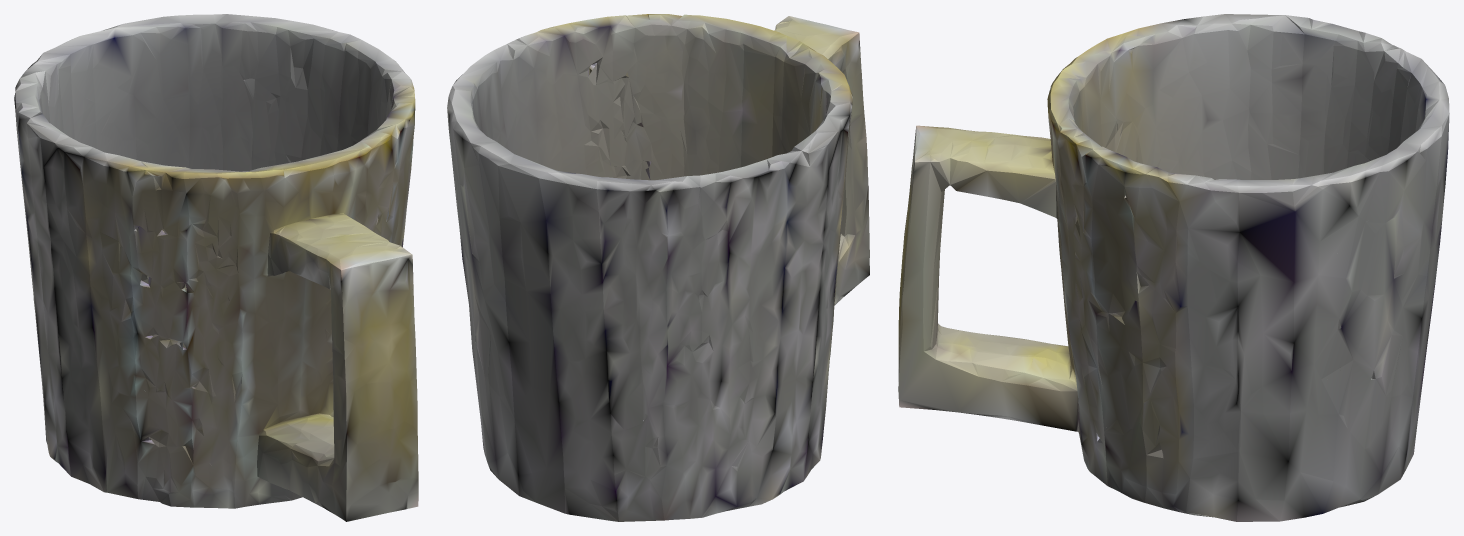
File: cup.glb
3 renders of one model, left to right at view 1: azimuth 30°, elevation 25°; view 2: azimuth 150°, elevation 25°; view 3: azimuth 270°, elevation 25°, orthographic.
Visible parts, largest first — view 1: world; view 2: world; view 3: world.
Boxes of the visible parts, bbox=[...] form: world: bbox=[14, 14, 418, 521]; world: bbox=[447, 14, 869, 521]; world: bbox=[898, 14, 1449, 521].
Size of the model in its own units: 0.0992 by 0.0958 by 0.1345.
